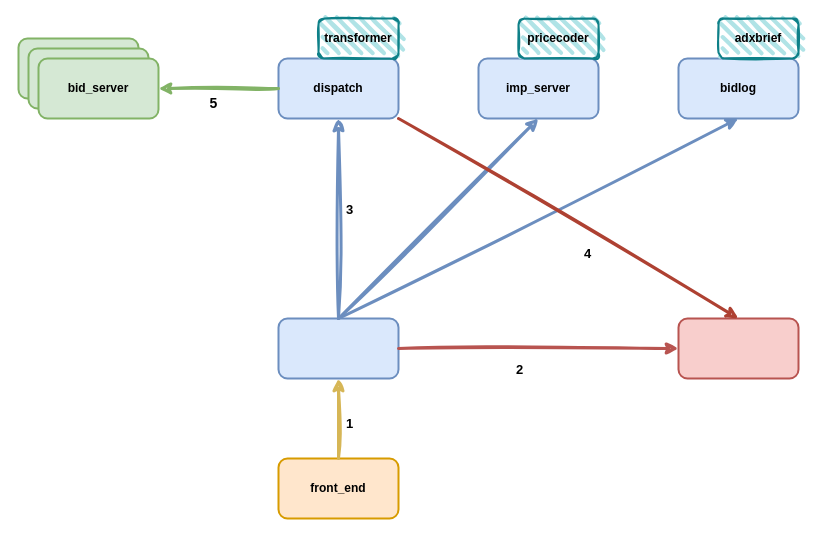
The diagram is 816 pixels wide and 536 high, and some of its shapes have lost their labels. The box of each missing label's shape, as (x1, y1, x2, y2) in pixels:
DB: (677, 317, 799, 379)
heimdall-web-api: (277, 317, 399, 379)
